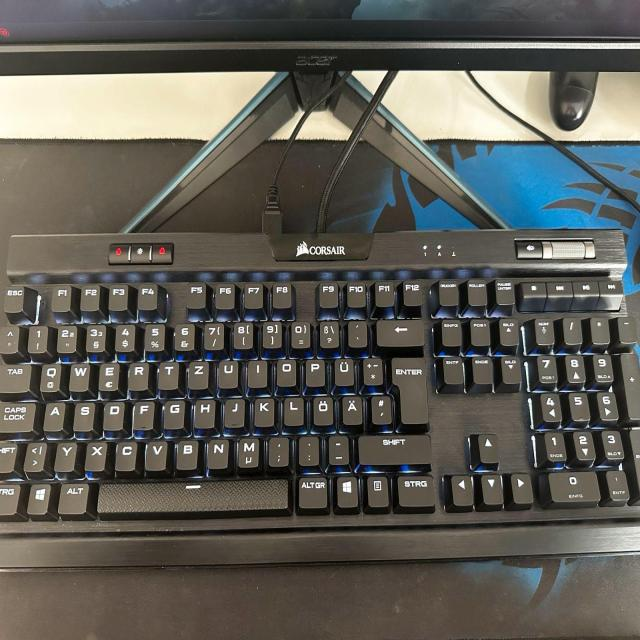0: (289, 318, 311, 348)
1: (27, 322, 48, 352)
2: (55, 323, 77, 352)
3: (84, 322, 106, 352)
4: (114, 321, 135, 351)
5: (143, 321, 165, 352)
6: (173, 320, 195, 351)
7: (202, 320, 224, 350)
8: (231, 320, 253, 350)
9: (260, 319, 282, 348)
a: (42, 399, 65, 430)
accent: (346, 318, 367, 347)
ae: (341, 393, 363, 424)
alt-left: (56, 480, 89, 513)
altgr-right: (296, 474, 328, 508)
b: (175, 436, 198, 469)
c: (114, 439, 137, 470)
caret: (0, 324, 20, 354)
comma: (267, 434, 288, 466)
d: (102, 399, 124, 429)
del: (375, 317, 424, 346)
e: (97, 360, 119, 390)
enter: (389, 354, 428, 425)
f: (132, 398, 154, 429)
g: (162, 397, 184, 428)
h: (193, 396, 215, 428)
hash: (370, 392, 391, 423)
i: (246, 357, 267, 386)
j: (223, 395, 244, 427)
k: (253, 394, 274, 426)
keyboard: (1, 227, 638, 569)
l: (282, 394, 303, 425)
less: (22, 439, 46, 471)
m: (236, 435, 259, 467)
minus: (327, 433, 349, 464)
n: (206, 435, 229, 468)
o: (276, 357, 297, 386)
oe: (311, 393, 333, 425)
p: (304, 357, 326, 386)
plus: (362, 355, 383, 385)
point: (298, 433, 319, 465)
q: (38, 361, 61, 392)
r: (126, 360, 149, 389)
s: (72, 399, 95, 430)
shift-left: (0, 441, 18, 473)
shift-lock: (0, 400, 35, 432)
shift-right: (356, 433, 431, 464)
space: (95, 477, 292, 515)
ss: (318, 319, 339, 348)
strg-left: (0, 481, 20, 515)
strg-right: (396, 472, 435, 506)
t: (157, 359, 179, 388)
tab: (0, 362, 31, 392)
u: (216, 357, 238, 388)
ue: (333, 356, 354, 386)
v: (144, 439, 167, 470)
w: (68, 362, 90, 391)
x: (84, 439, 107, 471)
y: (53, 440, 76, 471)
z: (187, 358, 209, 389)
